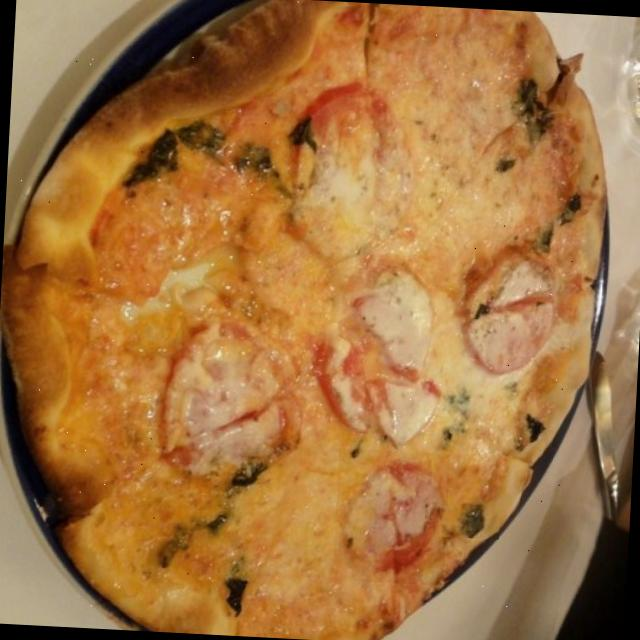basil: (124, 115, 281, 204), (488, 70, 560, 163), (438, 503, 501, 538)
pizza: (2, 0, 604, 640)
tomato: (159, 318, 308, 493), (284, 83, 424, 253), (314, 263, 442, 444), (456, 241, 576, 377), (332, 447, 450, 585)
